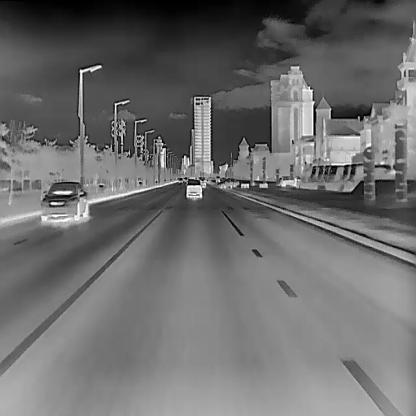car: (39, 180, 88, 223), (186, 178, 202, 198), (216, 176, 238, 190), (279, 175, 297, 187), (198, 174, 205, 188), (178, 176, 181, 182)
